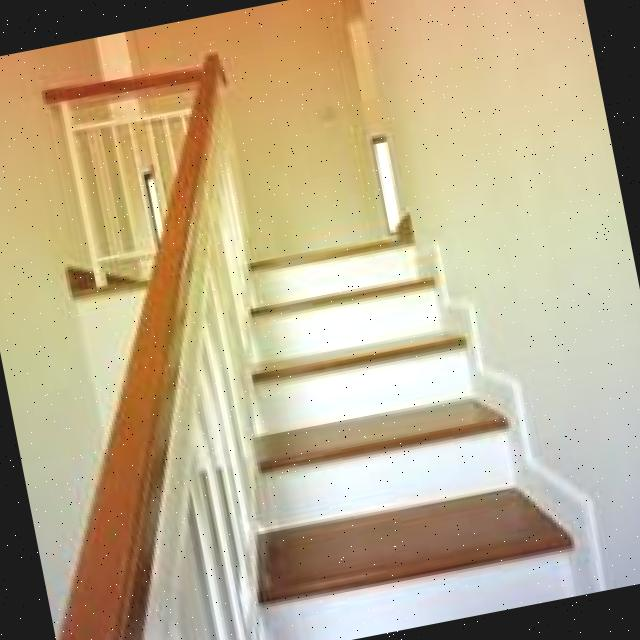stairs: (156, 173, 602, 640)
